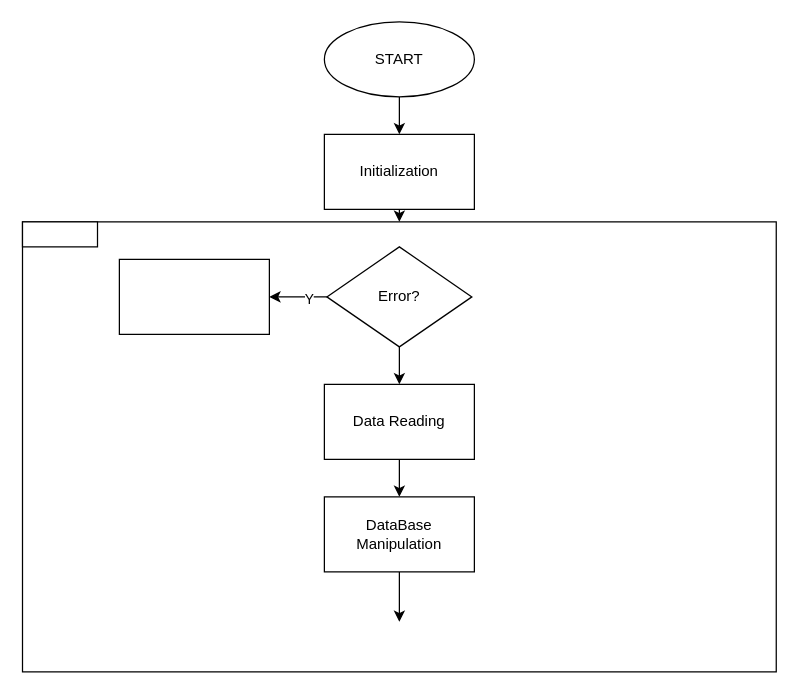
Some shapes in this 798 by 694 pixel diagram are drawn without their labels. Here are the shapes that lost their labels. From the top down, the centre of each, then its label:
At (59,234): "WHILE(1)".
At (193,296): "Send Error Message".
